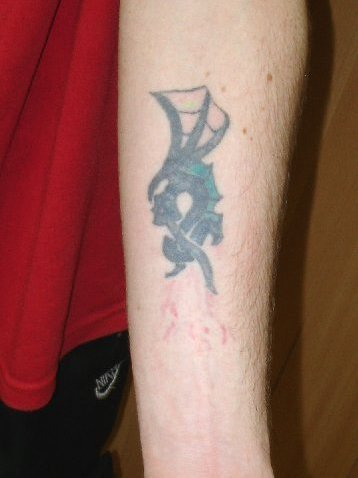tatu6_drakon: (125, 79, 247, 303)
